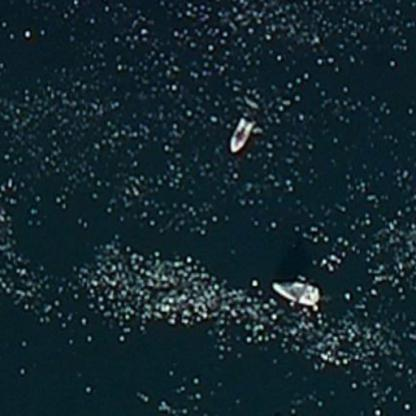ship: (265, 277, 326, 308), (225, 112, 258, 158)
